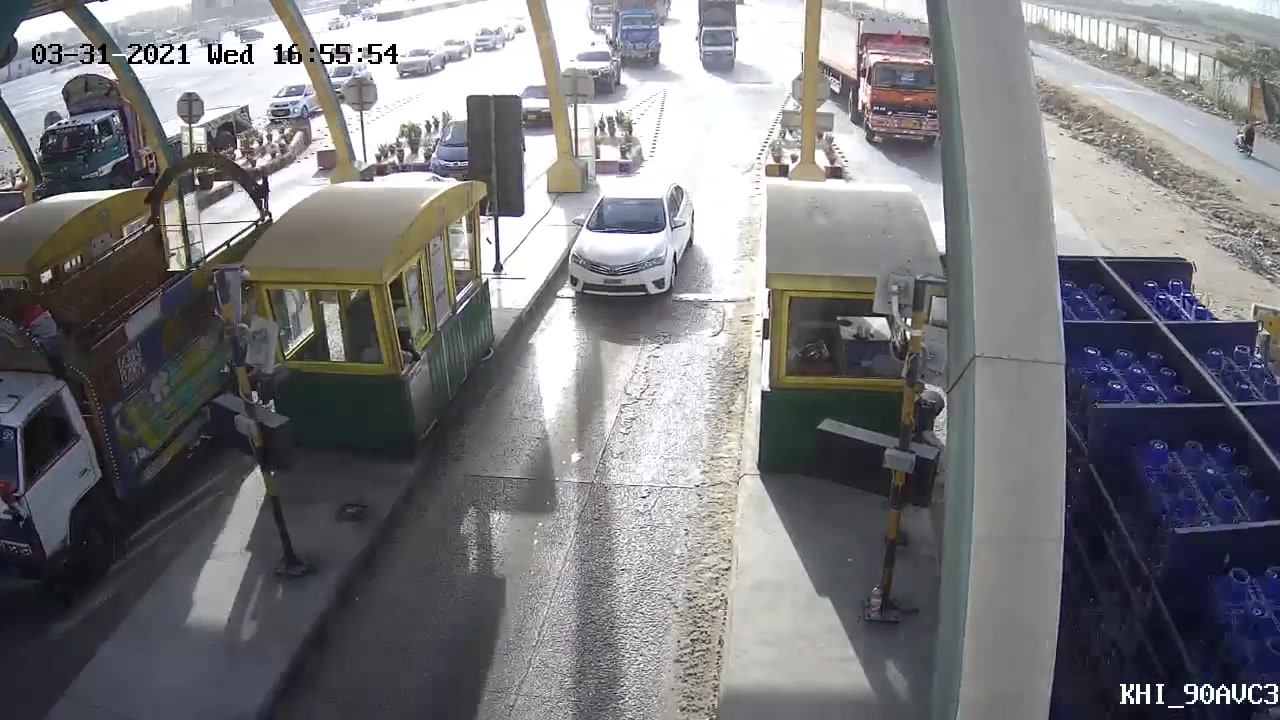F1: (557, 165, 708, 327)
